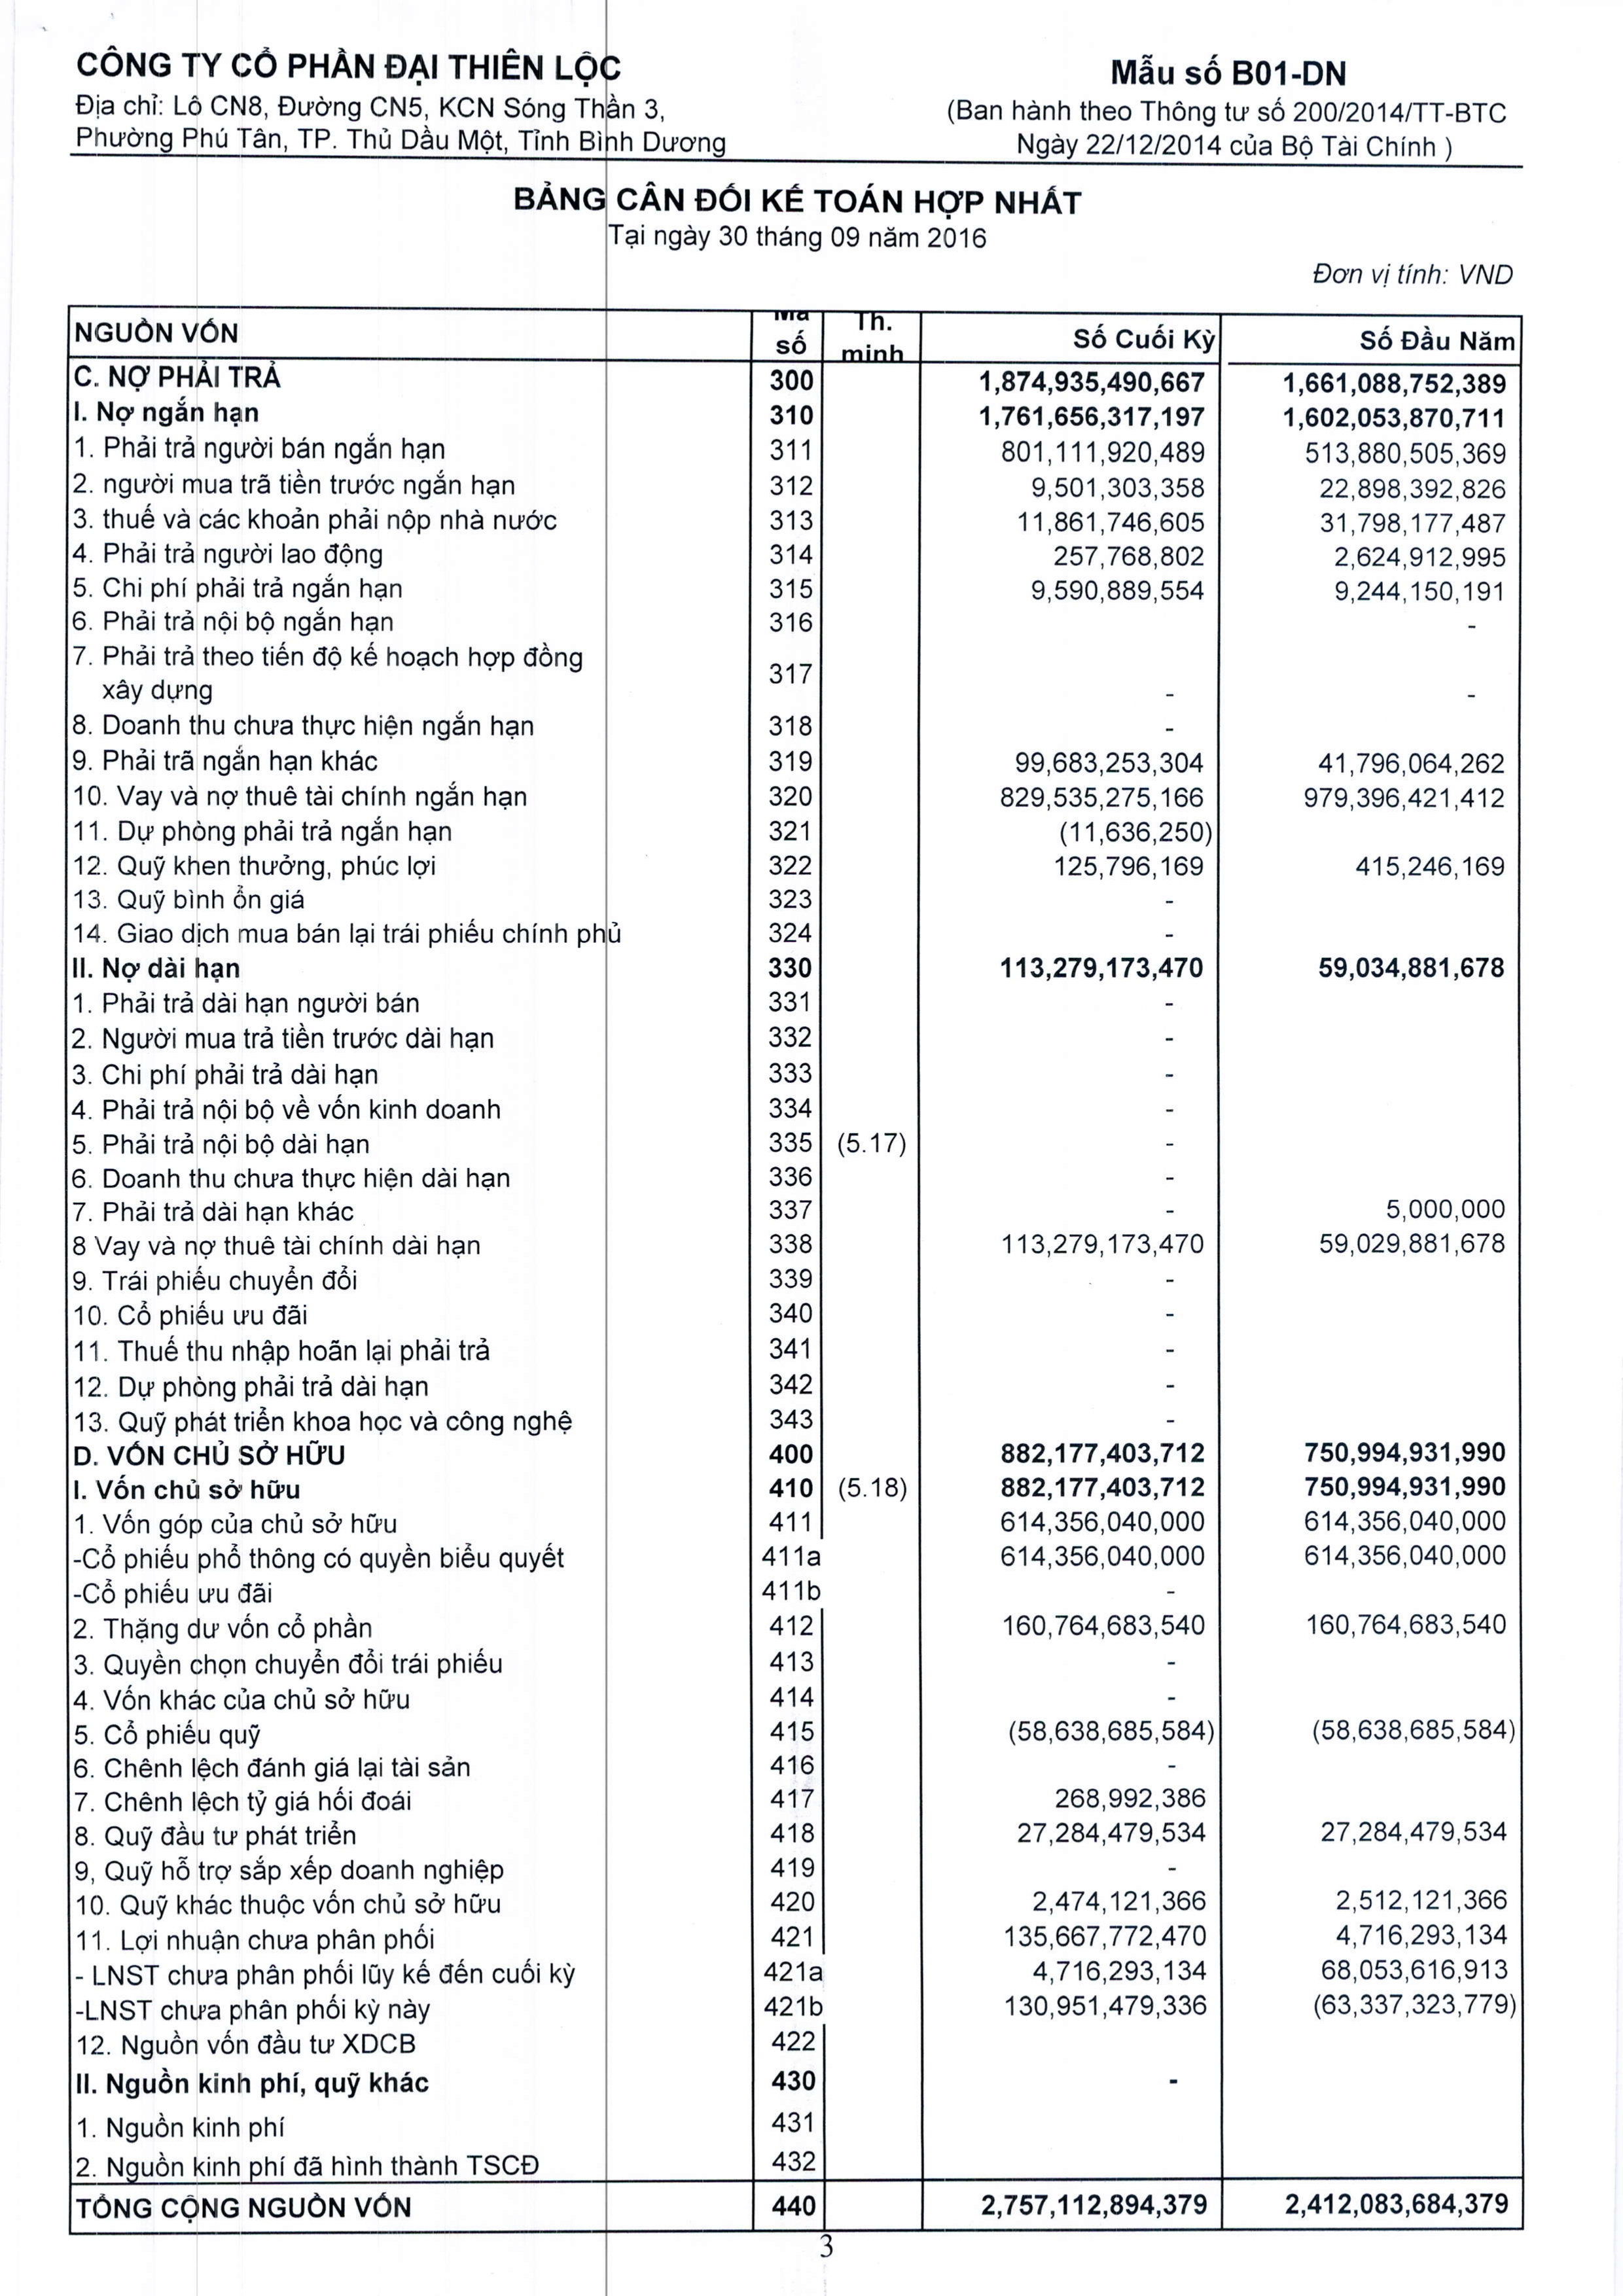table: (49, 298, 1539, 2236)
table column: (67, 298, 713, 2236), (977, 298, 1231, 2236), (1279, 298, 1519, 2236), (850, 298, 927, 2236), (771, 298, 843, 2236)
table column header: (51, 311, 1539, 379)
table row: (49, 321, 1539, 372), (49, 372, 1539, 407), (49, 513, 1539, 548), (49, 583, 1539, 618), (49, 718, 1539, 753), (49, 788, 1539, 823), (49, 823, 1539, 858), (49, 929, 1539, 964), (49, 1209, 1539, 1245), (49, 1631, 1539, 1666), (49, 1843, 1539, 1878), (49, 2061, 1539, 2096), (49, 2105, 1539, 2140), (49, 2145, 1539, 2180), (49, 442, 1539, 476), (49, 477, 1539, 511), (49, 548, 1539, 581), (49, 753, 1539, 786), (49, 860, 1539, 893), (49, 1001, 1539, 1034), (49, 1037, 1539, 1071), (49, 1073, 1539, 1106), (49, 1139, 1539, 1173), (49, 1174, 1539, 1208), (49, 1246, 1539, 1280), (49, 1353, 1539, 1387), (49, 1388, 1539, 1422), (49, 1527, 1539, 1561), (49, 1564, 1539, 1597), (49, 1597, 1539, 1631), (49, 1668, 1539, 1701), (49, 1703, 1539, 1736), (49, 1808, 1539, 1841), (49, 1948, 1539, 1982), (49, 1984, 1539, 2017), (49, 2182, 1539, 2215), (49, 409, 1539, 441), (49, 620, 1539, 651), (49, 685, 1539, 716), (49, 895, 1539, 927), (49, 967, 1539, 999), (49, 1283, 1539, 1315), (49, 1318, 1539, 1350), (49, 1424, 1539, 1455), (49, 1457, 1539, 1489), (49, 1494, 1539, 1525), (49, 1740, 1539, 1771), (49, 1880, 1539, 1912), (49, 1915, 1539, 1947), (49, 2020, 1539, 2052), (49, 653, 1539, 683), (49, 1108, 1539, 1137), (49, 1775, 1539, 1805)
